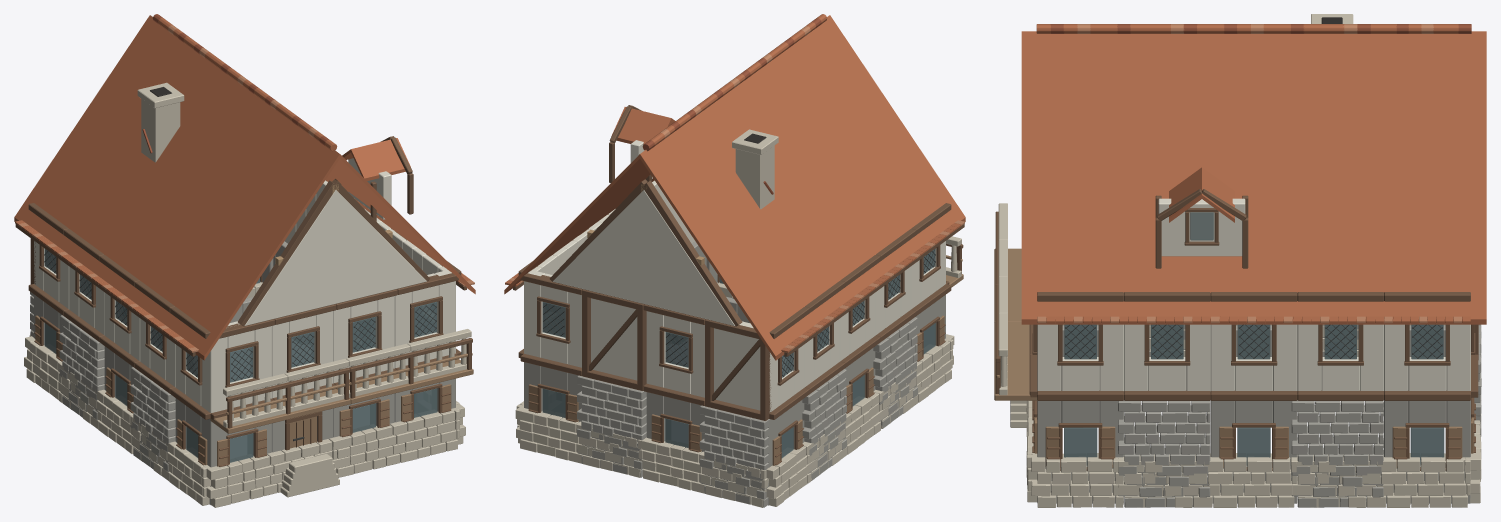
The model's file is residence_tier_4_kit_v1.glb.
3 views of the same model, side by side, from view 1: azimuth 30°, elevation 25°; view 2: azimuth 150°, elevation 25°; view 3: azimuth 270°, elevation 25° (orthographic). The views are drawn at different scales.
Visible parts, largest first — view 1: ResidenceRoofSurface_Left, R4_Gable_Front, R4_Foundation_Front_+2, R4_Foundation_Front_-2, R4_R4_03_Upper_Storey_FrontHost_0, R4_R4_02_Lower_Storey_LeftHost_3, R4_R4_02_Lower_Storey_LeftHost_1, ResidenceGallery_0, R4_R4_03_Upper_Storey_FrontHost_2, R4_R4_03_Upper_Storey_FrontHost_1, R4_R4_03_Upper_Storey_FrontHost_3, R4_GableTruss_Front (+44 smaller); view 2: ResidenceRoofSurface_Left, R4_Gable_Rear, R4_R4_03_Upper_Storey_RearHost_3, R4_R4_03_Upper_Storey_RearHost_1, R4_R4_02_Lower_Storey_RearHost_3, R4_R4_02_Lower_Storey_RearHost_1, R4_Foundation_Rear_-2, R4_Foundation_Rear_+2, R4_R4_03_Upper_Storey_RearHost_0, R4_R4_03_Upper_Storey_RearHost_2, R4_R4_02_Lower_Storey_LeftHost_3, R4_R4_02_Lower_Storey_LeftHost_1 (+33 smaller); view 3: ResidenceRoofSurface_Right, R4_R4_02_Lower_Storey_RightHost_3, R4_R4_02_Lower_Storey_RightHost_1, R4_Foundation_Right_2, R4_Foundation_Right_6, R4_R4_03_Upper_Storey_RightHost_2, R4_R4_03_Upper_Storey_RightHost_1, R4_R4_03_Upper_Storey_RightHost_3, R4_R4_03_Upper_Storey_RightHost_0, R4_R4_03_Upper_Storey_RightHost_4, R4_Foundation_Right_9, ResidenceDormerWall (+30 smaller).
Boxes of the visible parts, left/top/right/bottom form: ResidenceRoofSurface_Left: left=14, top=15, right=339, bottom=360; R4_Gable_Front: left=244, top=190, right=426, bottom=325; R4_Foundation_Front_+2: left=330, top=408, right=460, bottom=477; R4_Foundation_Front_-2: left=204, top=438, right=337, bottom=507; R4_R4_03_Upper_Storey_FrontHost_0: left=206, top=319, right=274, bottom=420; R4_R4_02_Lower_Storey_LeftHost_3: left=59, top=315, right=104, bottom=419; R4_R4_02_Lower_Storey_LeftHost_1: left=130, top=367, right=175, bottom=471; ResidenceGallery_0: left=210, top=367, right=350, bottom=433; R4_R4_03_Upper_Storey_FrontHost_2: left=333, top=289, right=397, bottom=388; R4_R4_03_Upper_Storey_FrontHost_1: left=272, top=304, right=336, bottom=403; R4_R4_03_Upper_Storey_FrontHost_3: left=394, top=270, right=458, bottom=371; R4_GableTruss_Front: left=238, top=179, right=430, bottom=326; ResidenceRoofSurface_Left: left=640, top=15, right=965, bottom=360; R4_Gable_Rear: left=553, top=190, right=734, bottom=325; R4_R4_03_Upper_Storey_RearHost_3: left=705, top=319, right=773, bottom=420; R4_R4_03_Upper_Storey_RearHost_1: left=582, top=289, right=646, bottom=390; R4_R4_02_Lower_Storey_RearHost_3: left=699, top=405, right=768, bottom=507; R4_R4_02_Lower_Storey_RearHost_1: left=577, top=375, right=646, bottom=477; R4_Foundation_Rear_-2: left=515, top=404, right=642, bottom=477; R4_Foundation_Rear_+2: left=639, top=437, right=768, bottom=507; R4_R4_03_Upper_Storey_RearHost_0: left=520, top=270, right=582, bottom=375; R4_R4_03_Upper_Storey_RearHost_2: left=643, top=304, right=705, bottom=405; R4_R4_02_Lower_Storey_LeftHost_3: left=802, top=369, right=846, bottom=480; R4_R4_02_Lower_Storey_LeftHost_1: left=873, top=317, right=917, bottom=428; ResidenceRoofSurface_Right: left=1021, top=31, right=1486, bottom=324; R4_R4_02_Lower_Storey_RightHost_3: left=1118, top=400, right=1210, bottom=507; R4_R4_02_Lower_Storey_RightHost_1: left=1291, top=400, right=1383, bottom=507; R4_Foundation_Right_2: left=1292, top=453, right=1470, bottom=507; R4_Foundation_Right_6: left=1118, top=453, right=1297, bottom=507; R4_R4_03_Upper_Storey_RightHost_2: left=1210, top=292, right=1297, bottom=400; R4_R4_03_Upper_Storey_RightHost_1: left=1297, top=292, right=1383, bottom=400; R4_R4_03_Upper_Storey_RightHost_3: left=1124, top=292, right=1210, bottom=400; R4_R4_03_Upper_Storey_RightHost_0: left=1384, top=292, right=1470, bottom=400; R4_R4_03_Upper_Storey_RightHost_4: left=1037, top=292, right=1123, bottom=400; R4_Foundation_Right_9: left=1031, top=453, right=1123, bottom=507; ResidenceDormerWall: left=1158, top=198, right=1245, bottom=256.
Size of the model in its own units: 9.22 by 10.4 by 11.34.
